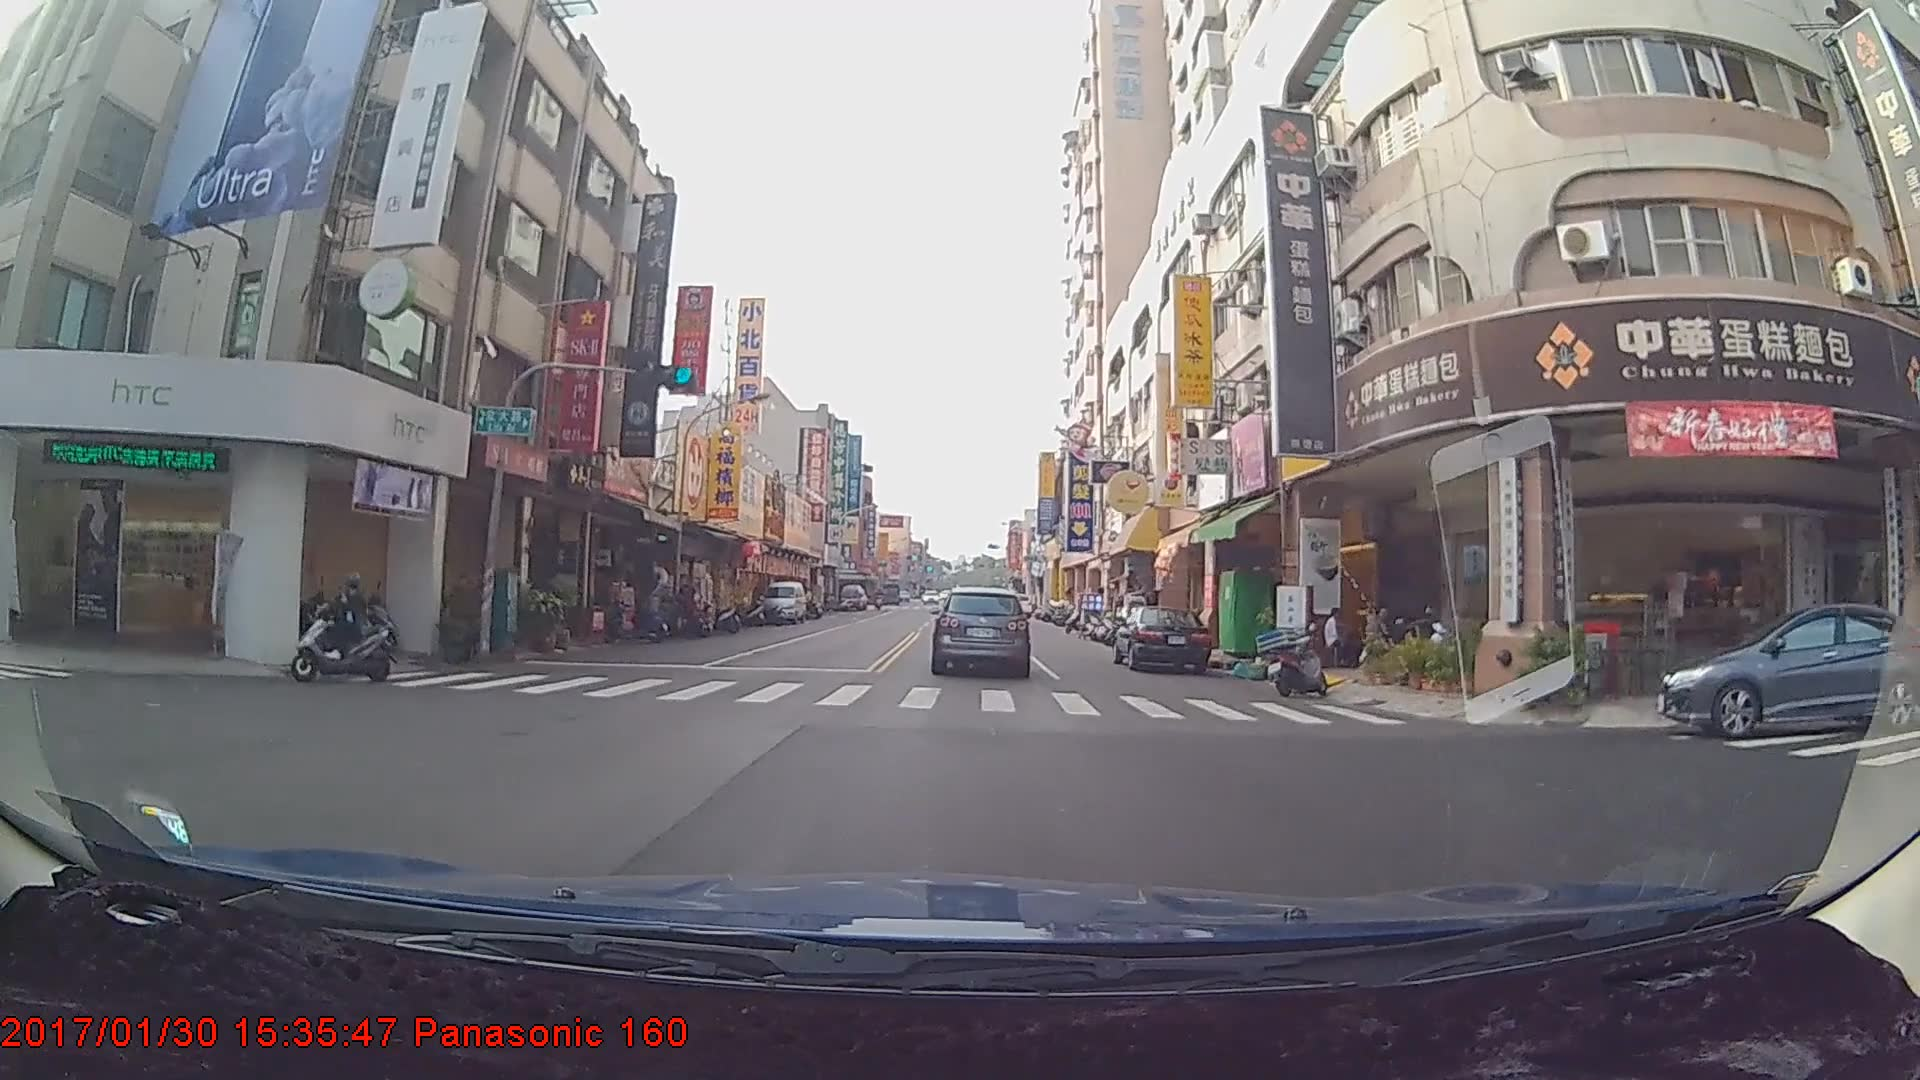pedestrian: (1354, 602, 1387, 666), (1319, 599, 1350, 663)
rider: (286, 565, 401, 681)
vehicle: (1659, 602, 1920, 738), (931, 584, 1030, 675), (1113, 604, 1213, 673), (755, 576, 806, 620), (840, 584, 868, 612)
